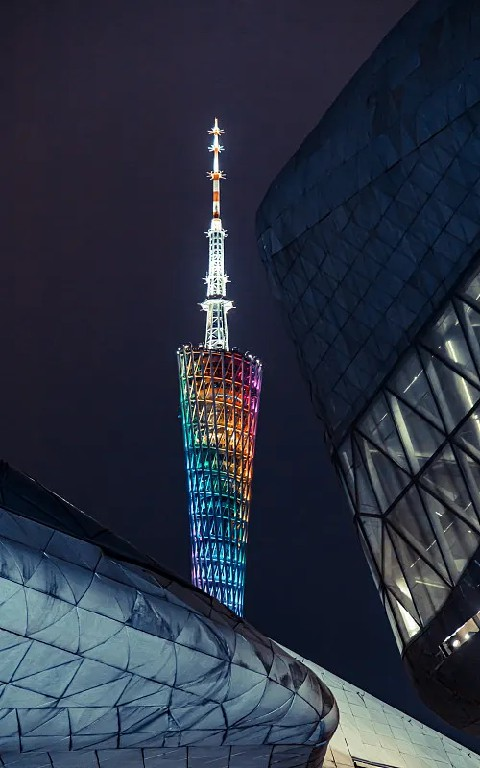Canton: (173, 117, 265, 624)
